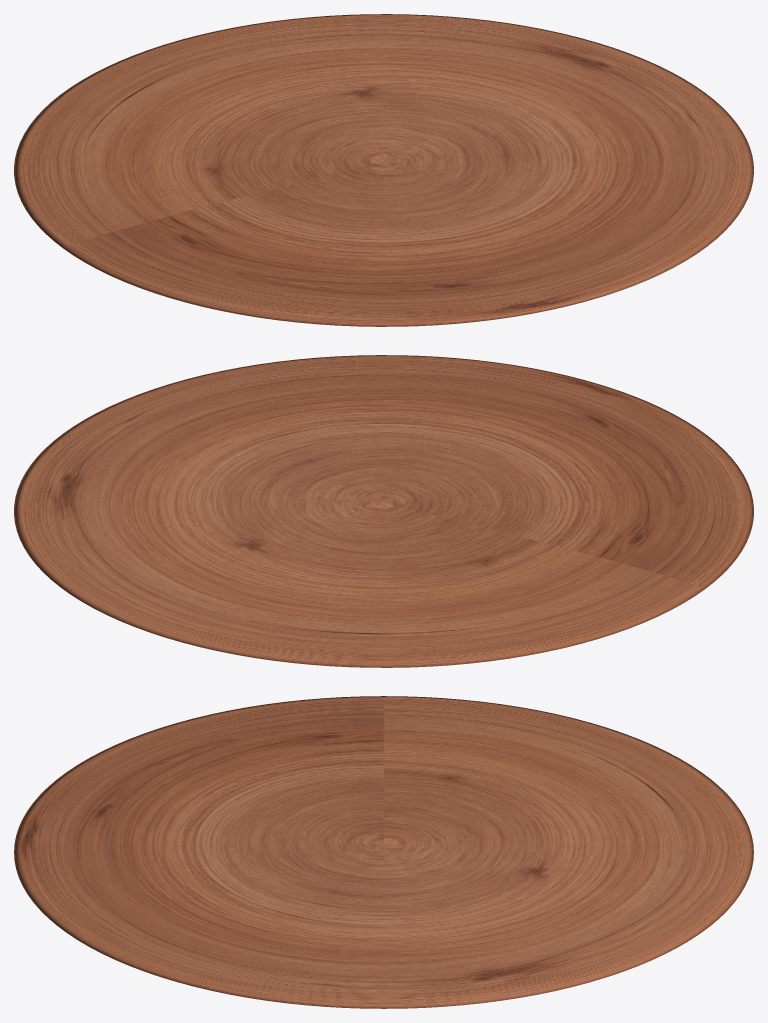
The model's file is orionCedro.glb.
3 views of the same model, one above another, from view 1: azimuth 30°, elevation 25°; view 2: azimuth 150°, elevation 25°; view 3: azimuth 270°, elevation 25° (orthographic).
Visible parts, largest first — view 1: Sphere; view 2: Sphere; view 3: Sphere.
Boxes of the visible parts, <box> form: Sphere: <box>14,14,753,326</box>; Sphere: <box>14,355,753,667</box>; Sphere: <box>14,696,753,1008</box>.
Bounding box in the file's own units: 3.68 × 0.099 × 3.68.
Materials: 1 (1 with a texture image).
